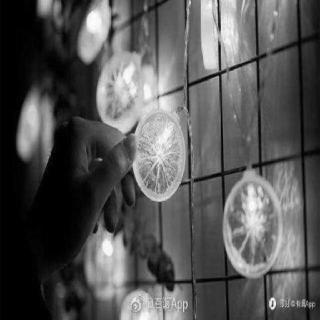other: (230, 180, 278, 280), (198, 0, 224, 74), (120, 58, 152, 110), (127, 294, 151, 318), (84, 15, 106, 41)
